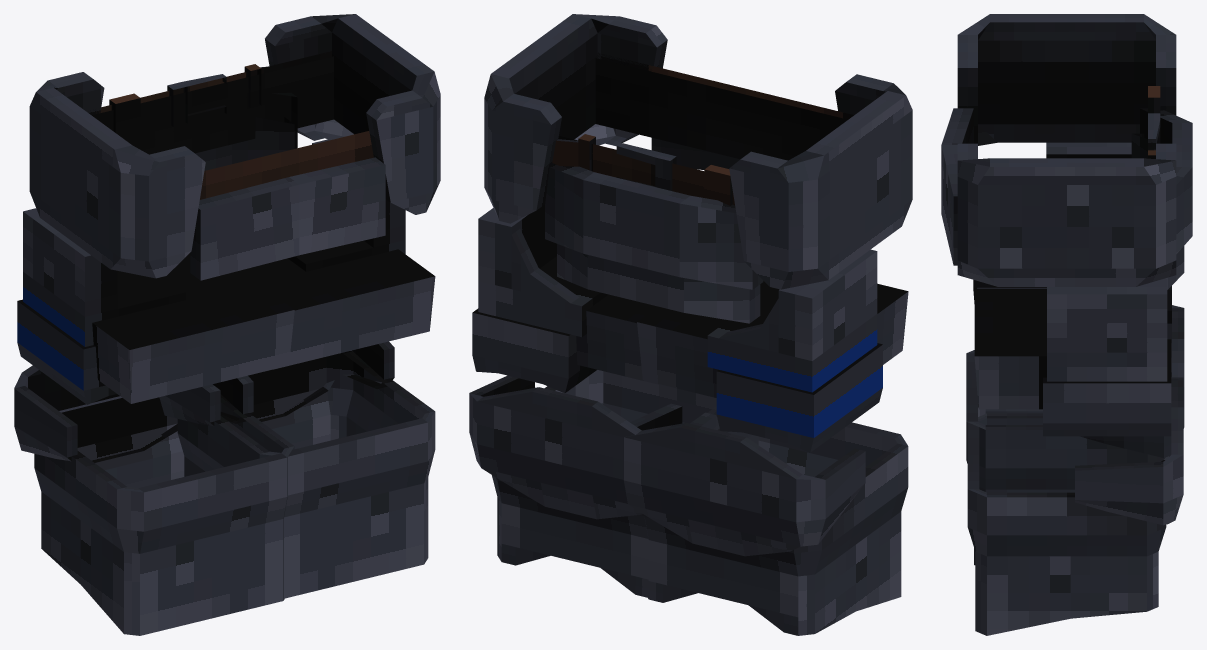
3 views of the same model, side by side, from view 1: azimuth 30°, elevation 25°; view 2: azimuth 150°, elevation 25°; view 3: azimuth 270°, elevation 25° (orthographic). The views are drawn at different scales.
Parts seen in each view (by area): view 1: left_leg, body, right_leg; view 2: body, left_leg, right_leg; view 3: body, right_leg, left_leg.
Boxes of the visible parts, <box> form: left_leg: <box>14,208,294,635</box>; body: <box>29,14,440,280</box>; right_leg: <box>159,139,435,598</box>; body: <box>484,14,912,323</box>; left_leg: <box>623,249,908,635</box>; right_leg: <box>469,204,758,597</box>; body: <box>941,14,1192,289</box>; right_leg: <box>967,279,1183,635</box>; left_leg: <box>966,142,1184,565</box>.
Bounding box in the file's own units: 0.6016 × 0.814 × 0.3906.
1 material, 1 textured.
